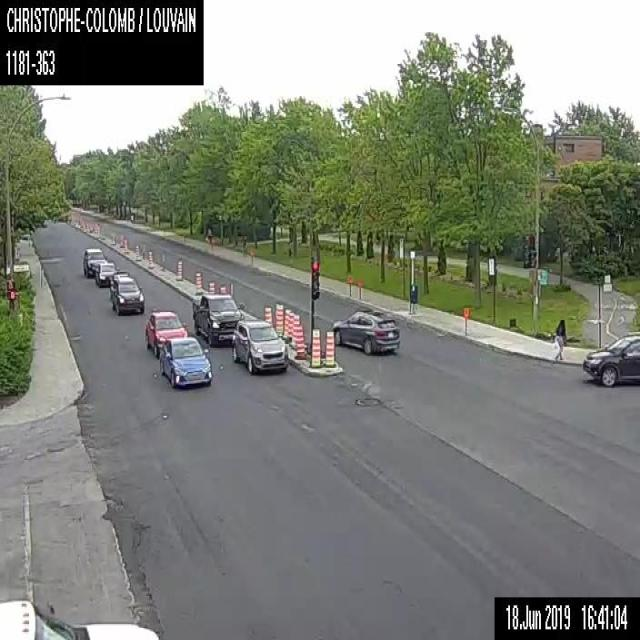construction: (308, 327, 322, 367), (323, 328, 335, 366), (294, 322, 306, 358), (290, 313, 299, 348), (275, 303, 283, 336), (282, 307, 290, 339), (287, 310, 294, 344), (195, 271, 202, 294), (175, 258, 182, 280), (463, 307, 468, 334), (264, 306, 272, 322), (357, 276, 362, 299), (147, 250, 153, 268), (347, 275, 352, 295), (249, 247, 254, 265), (208, 280, 215, 292), (135, 243, 139, 260), (123, 238, 127, 251), (119, 234, 123, 247), (219, 285, 226, 292)
pedestrian: (553, 317, 567, 360)
vehicle: (0, 596, 159, 639), (330, 306, 401, 354), (580, 331, 639, 388), (231, 317, 288, 373), (158, 335, 212, 387), (192, 292, 244, 345), (144, 310, 187, 355), (112, 276, 145, 314), (82, 247, 106, 277), (95, 261, 119, 286), (108, 271, 130, 298)
